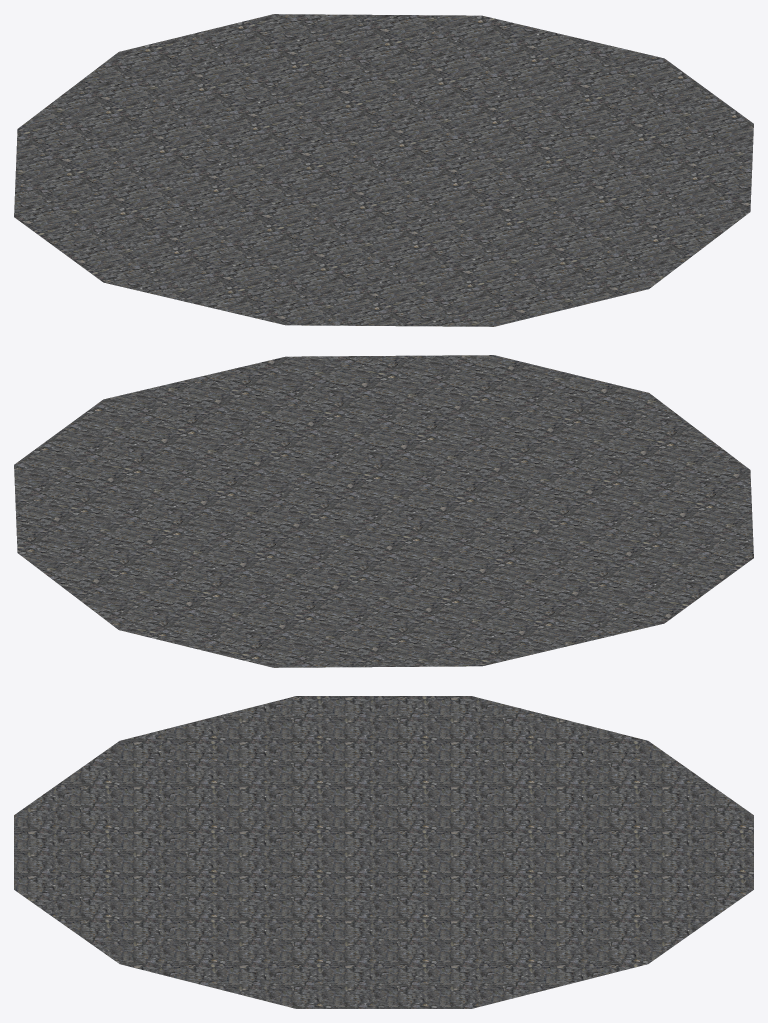
The model's file is mapparts2.fbx.
The picture shows the model from 3 angles, top to bottom: view 1: azimuth 30°, elevation 25°; view 2: azimuth 150°, elevation 25°; view 3: azimuth 270°, elevation 25°; orthographic projection.
Parts seen in each view (by area): view 1: Box001; view 2: Box001; view 3: Box001.
Part boxes in pixels (box(x1,y1,x2,y2)): Box001: box(14, 14, 753, 326); Box001: box(14, 355, 753, 667); Box001: box(14, 696, 753, 1008).
Size of the model in its own units: 1917 by 81.73 by 1917.
Materials: 1 (1 with a texture image).
